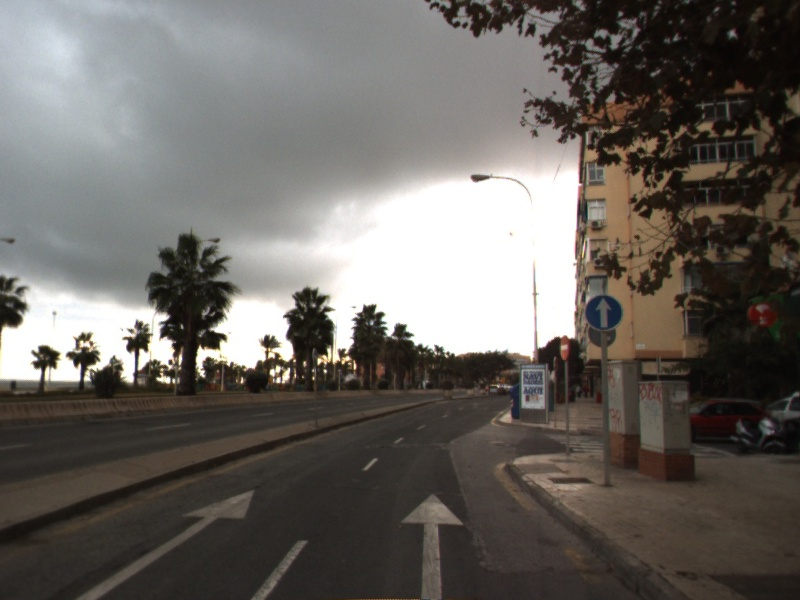STRAIGHT: (73, 487, 257, 600), (399, 492, 467, 600)
